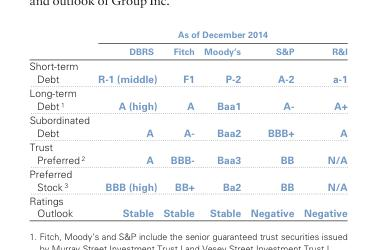table: (28, 28, 346, 218)
table column: (93, 28, 159, 218), (28, 28, 93, 218), (244, 28, 298, 218), (298, 28, 346, 218), (198, 28, 244, 218), (159, 28, 198, 218)
table column header: (28, 28, 346, 57)
table row: (28, 57, 346, 85), (28, 85, 346, 112), (28, 112, 346, 139), (28, 139, 346, 166), (28, 166, 346, 192), (28, 192, 346, 218), (28, 42, 346, 57), (28, 28, 346, 42)
table spanning cell: (93, 28, 346, 42)
